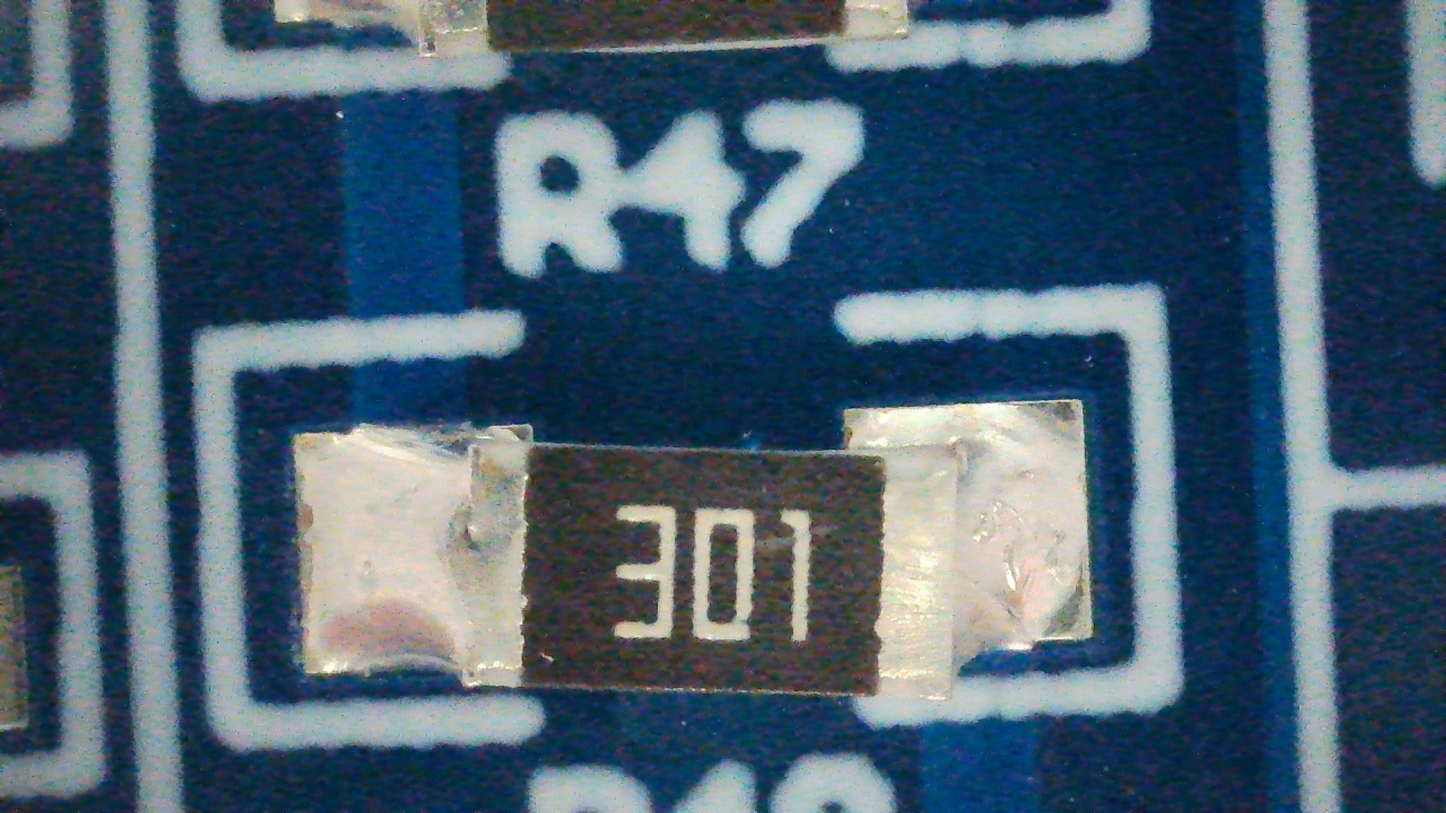NG: (293, 399, 1092, 702)
